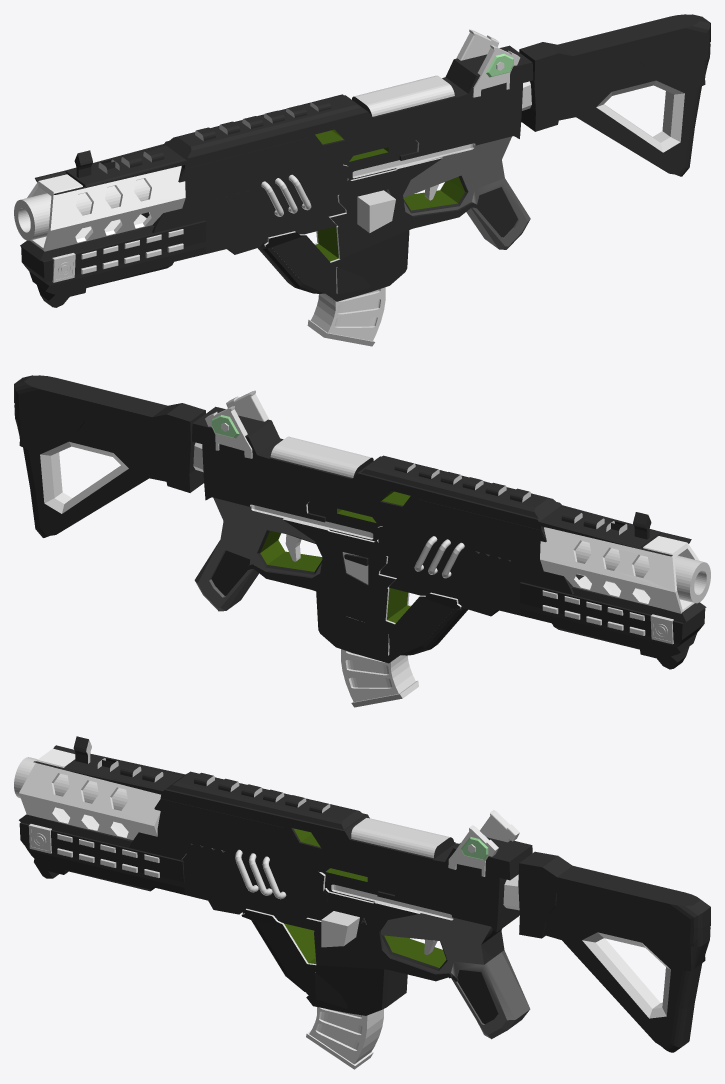
File: MachineGun.fbx
3 renders of one model, top to bottom at view 1: azimuth 30°, elevation 25°; view 2: azimuth 150°, elevation 25°; view 3: azimuth 330°, elevation 25°, orthographic.
Parts seen in each view (by area): view 1: Cylinder.002, Cube.002, Cube.005; view 2: Cylinder.002, Cube.002; view 3: Cylinder.002, Cube.002, Cube.005.
Part boxes in pixels (bbox=[...]): Cylinder.002: bbox=[14, 14, 710, 307]; Cube.002: bbox=[307, 287, 385, 346]; Cube.005: bbox=[357, 190, 395, 232]; Cylinder.002: bbox=[14, 375, 710, 669]; Cube.002: bbox=[341, 649, 418, 707]; Cylinder.002: bbox=[14, 736, 710, 1052]; Cube.002: bbox=[306, 1007, 383, 1069]; Cube.005: bbox=[321, 911, 359, 947].
Size of the model in its own units: 285 by 109 by 29.23.
